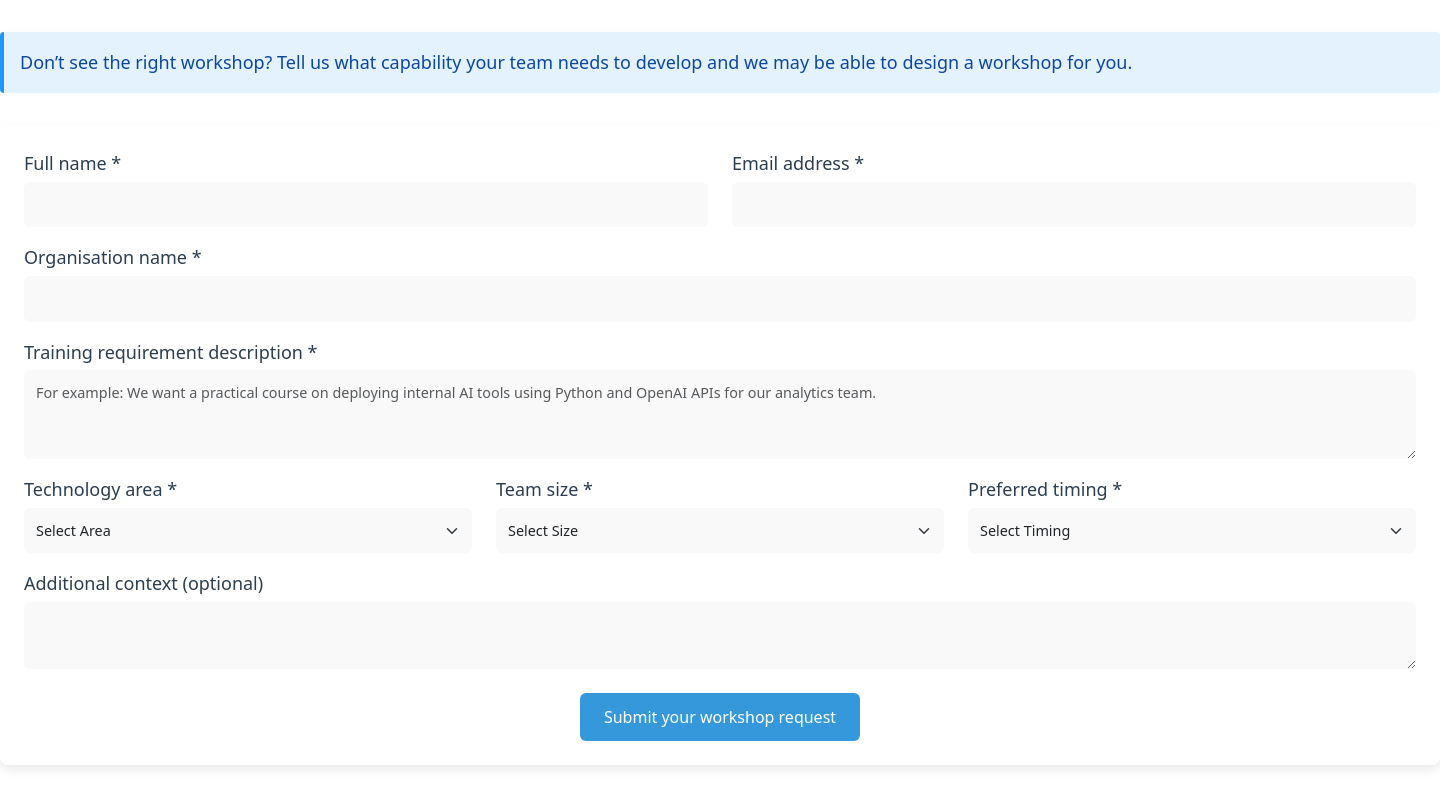
Scenario: WorkshopRequests Component › shows validation errors when submitting an empty form
Click the button "Submit your workshop request" at [720, 717], box [580, 693, 860, 741]
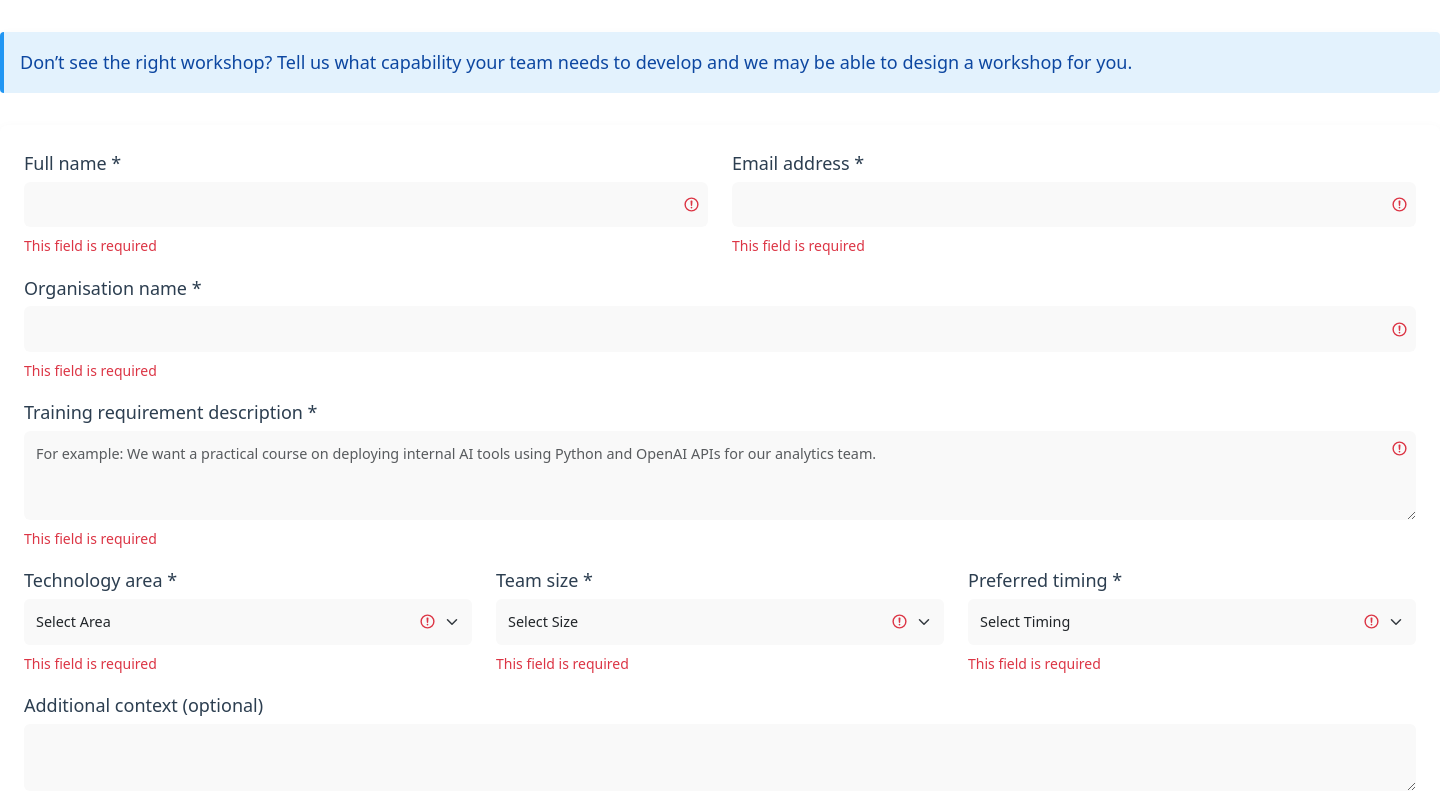
expect the text "This field is required" below "Full name *" is shown: met, box [24, 236, 157, 255]
